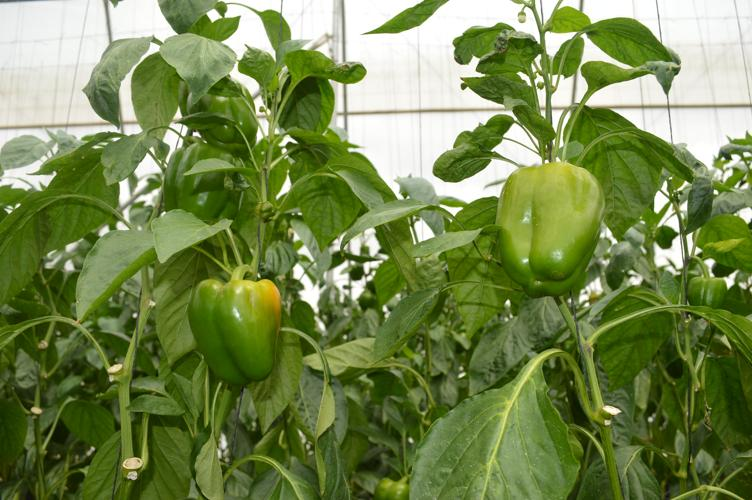BellPepper: (491, 153, 606, 302), (182, 271, 282, 395), (164, 49, 268, 146), (158, 144, 247, 243)
